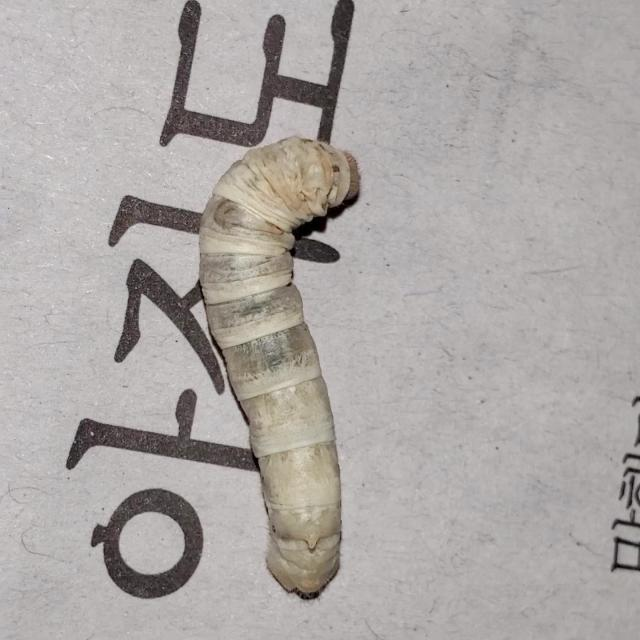Grasserie: (181, 94, 426, 616)
